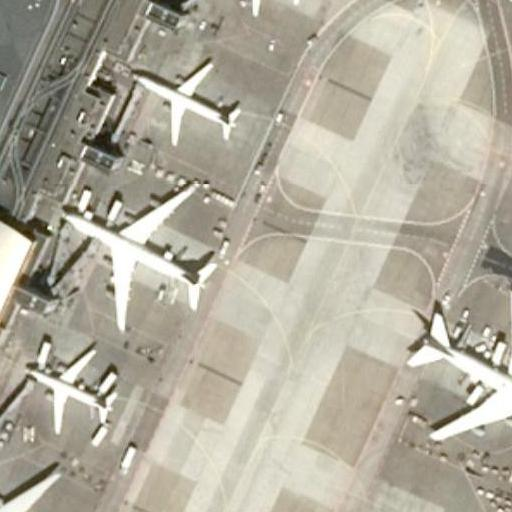Aircraft: (49, 171, 229, 333), (394, 280, 512, 456), (120, 44, 250, 156), (14, 340, 131, 438), (0, 456, 105, 512), (218, 0, 324, 20), (498, 0, 512, 53)
